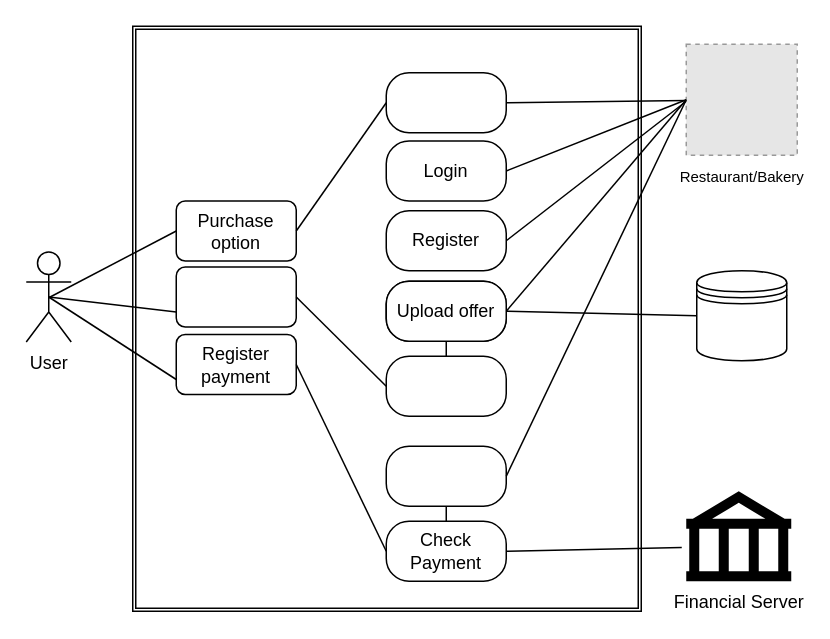
Image size: 830x639. Some labels were removed from this diagram. Grey dashed boxes stand in for pictures. The shapes that lost their labels are listed below. From the top down, each one's centre as x and y in pixels, then its label:
At point (445, 102): "Check requests".
At point (235, 296): "Filter options".
At point (741, 315): "Database".
At point (445, 385): "Display Offer".
At point (445, 475): "Confirm payment".
